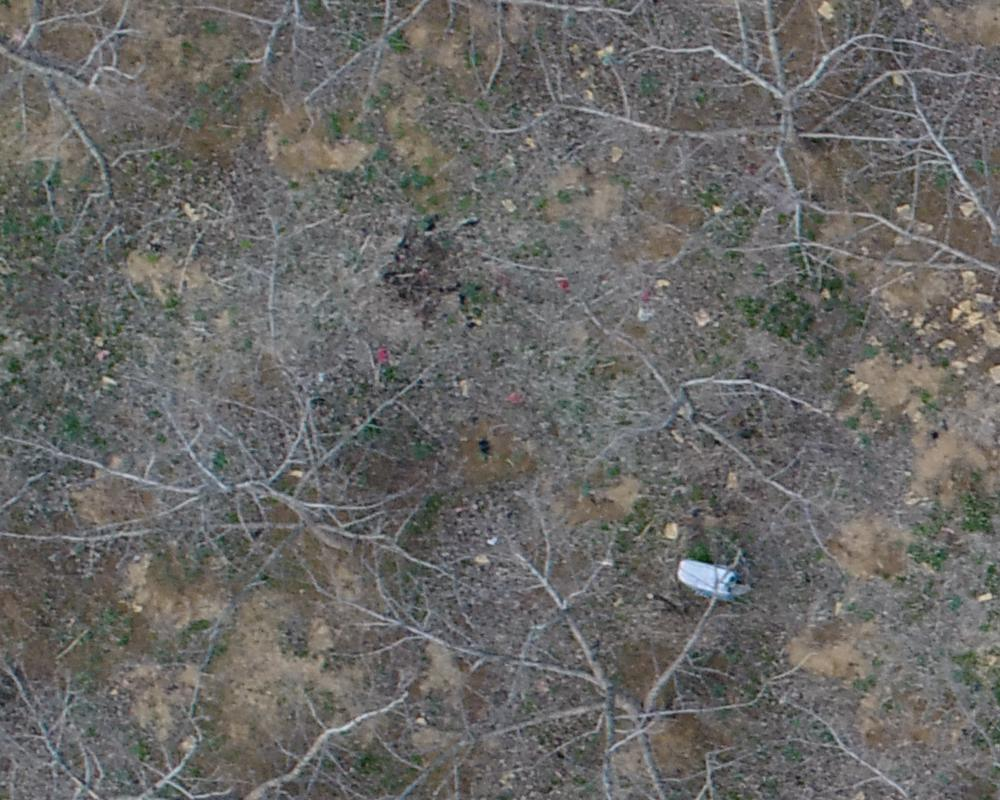apple: (315, 506, 785, 790), (519, 10, 959, 287), (10, 362, 477, 614), (553, 292, 877, 572), (786, 53, 990, 444), (10, 648, 420, 790)
